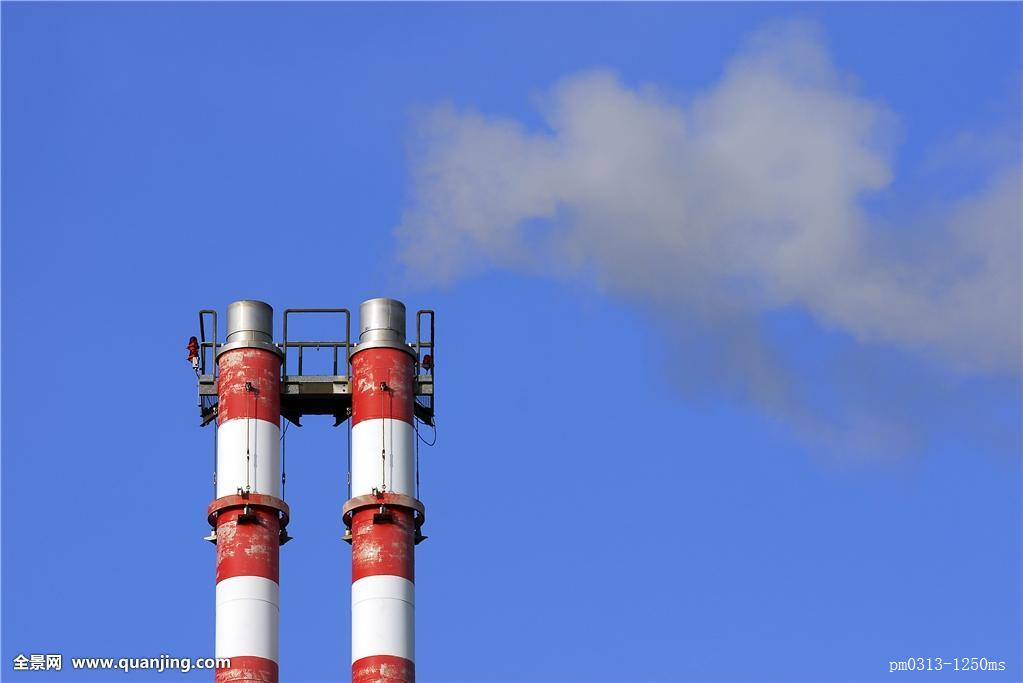dust: (328, 97, 604, 350)
